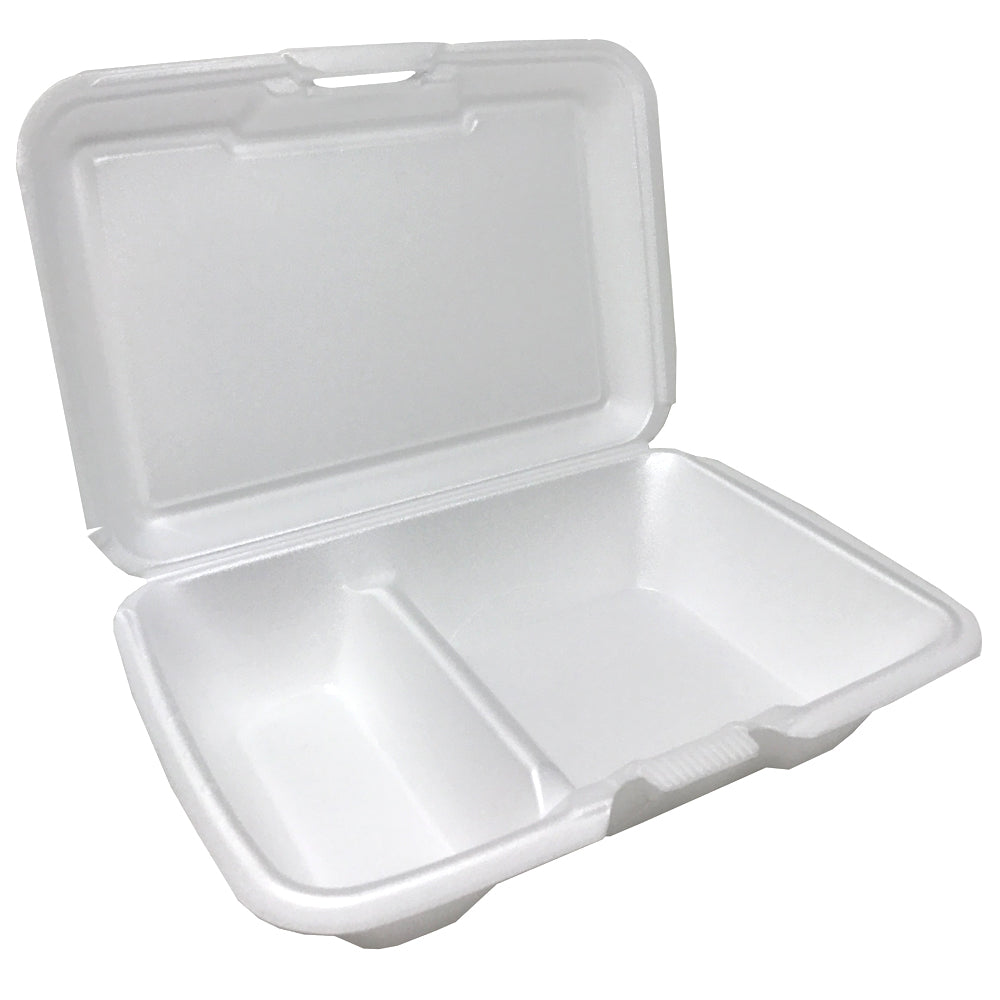styrofoam: (17, 38, 988, 946)
